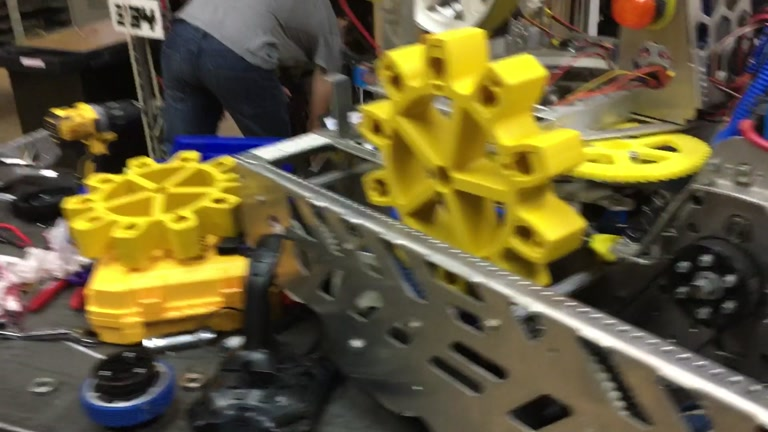gear: (362, 29, 589, 316), (59, 148, 259, 269)
